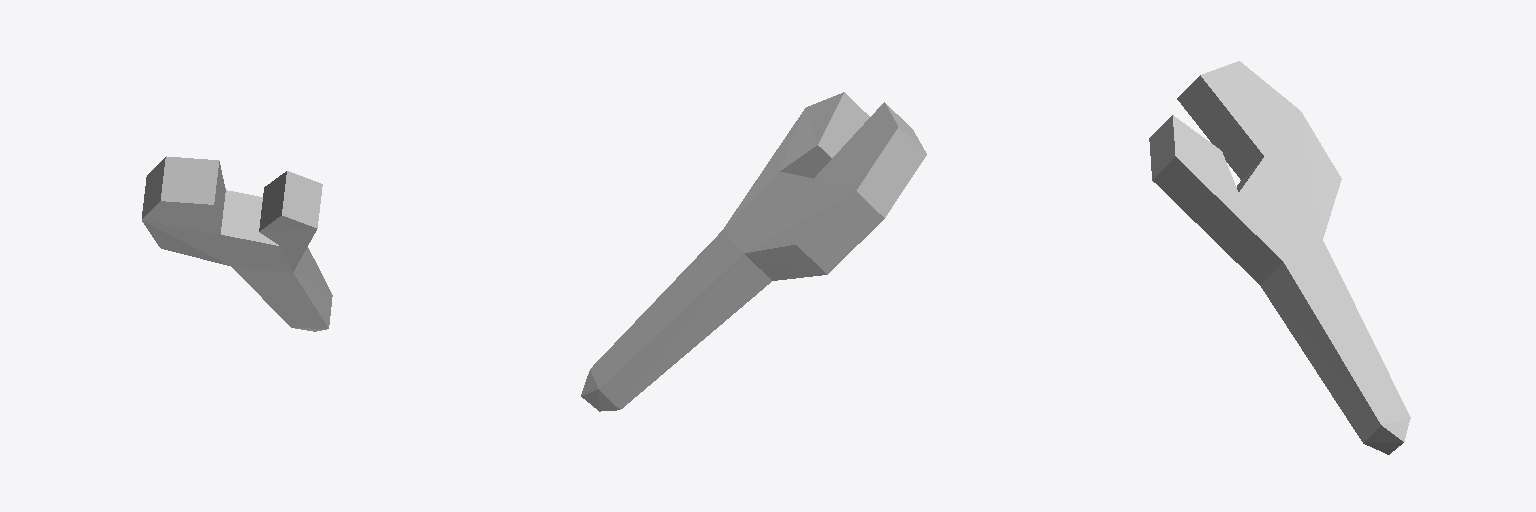
Rendered from dc2_ic.ico.obj.
3 views of the same model, side by side, from view 1: azimuth 30°, elevation 25°; view 2: azimuth 150°, elevation 25°; view 3: azimuth 270°, elevation 25° (orthographic).
Bounding box in the file's own units: 4.08 × 4.4 × 3.63.